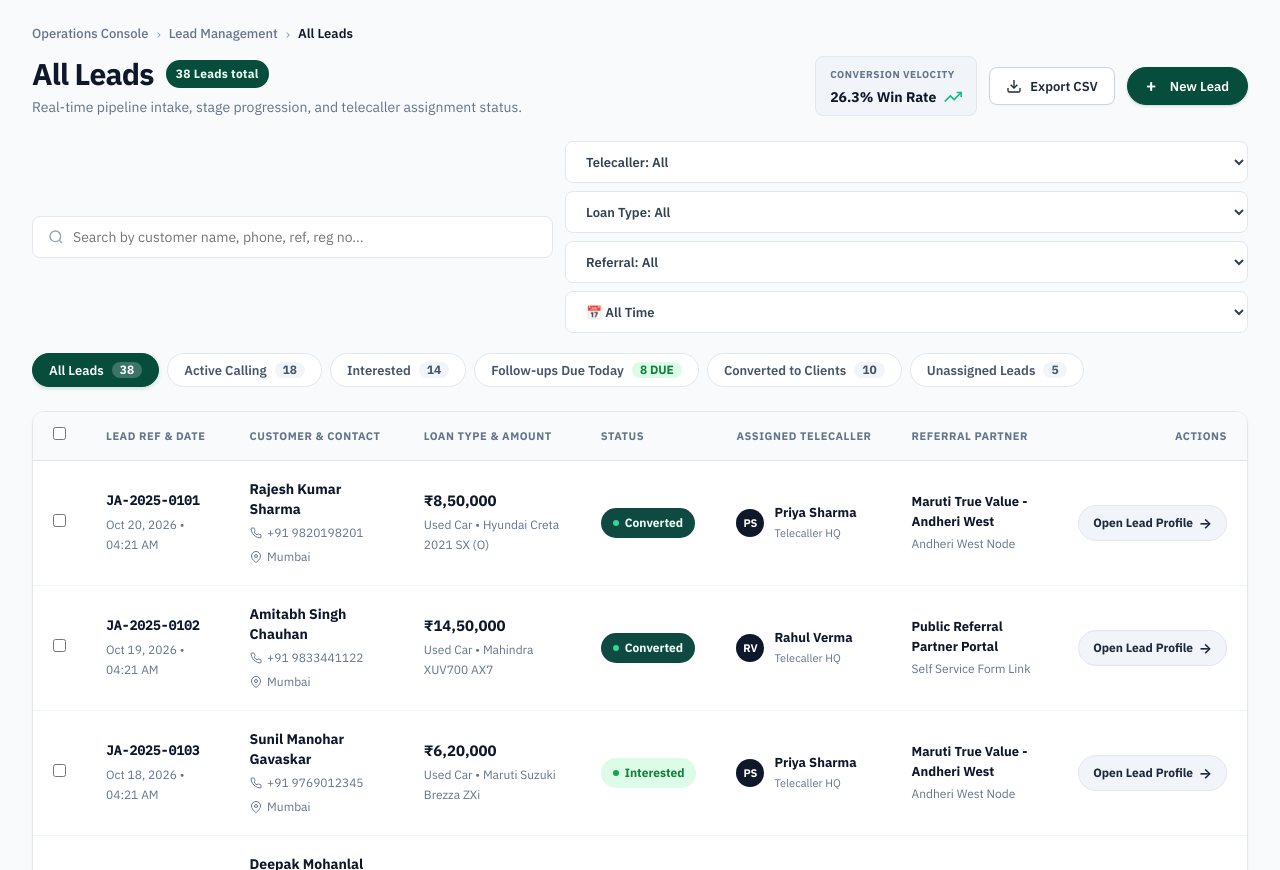
Test: DSA OS — Clickable Dashboard & Lead Management Journey › switching status tabs dynamically filters the table records
Expected: the heading "All Leads" is shown, left=32, top=56, right=154, bottom=92
Note: Click Unassigned Leads tab
Click the tab "Unassigned Leads 5" at (997, 370), box left=910, top=353, right=1084, bottom=387
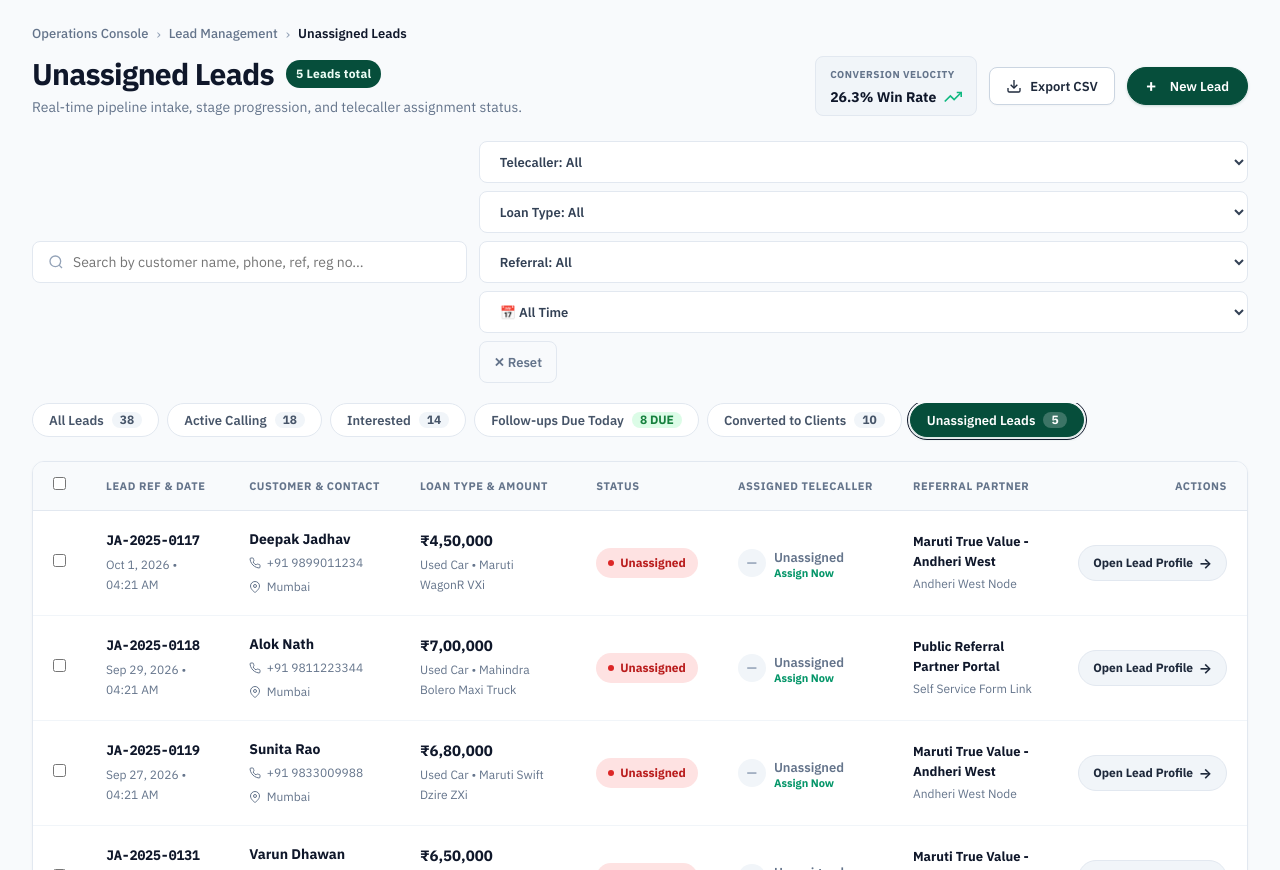
Expected: the text "5 Leads total" is shown, left=286, top=60, right=381, bottom=88
Expected: the heading "Unassigned Leads" is shown, left=32, top=56, right=274, bottom=92
Note: Click Active Calling tab
Click the tab "Active Calling 18" at (245, 420), box left=167, top=403, right=322, bottom=437
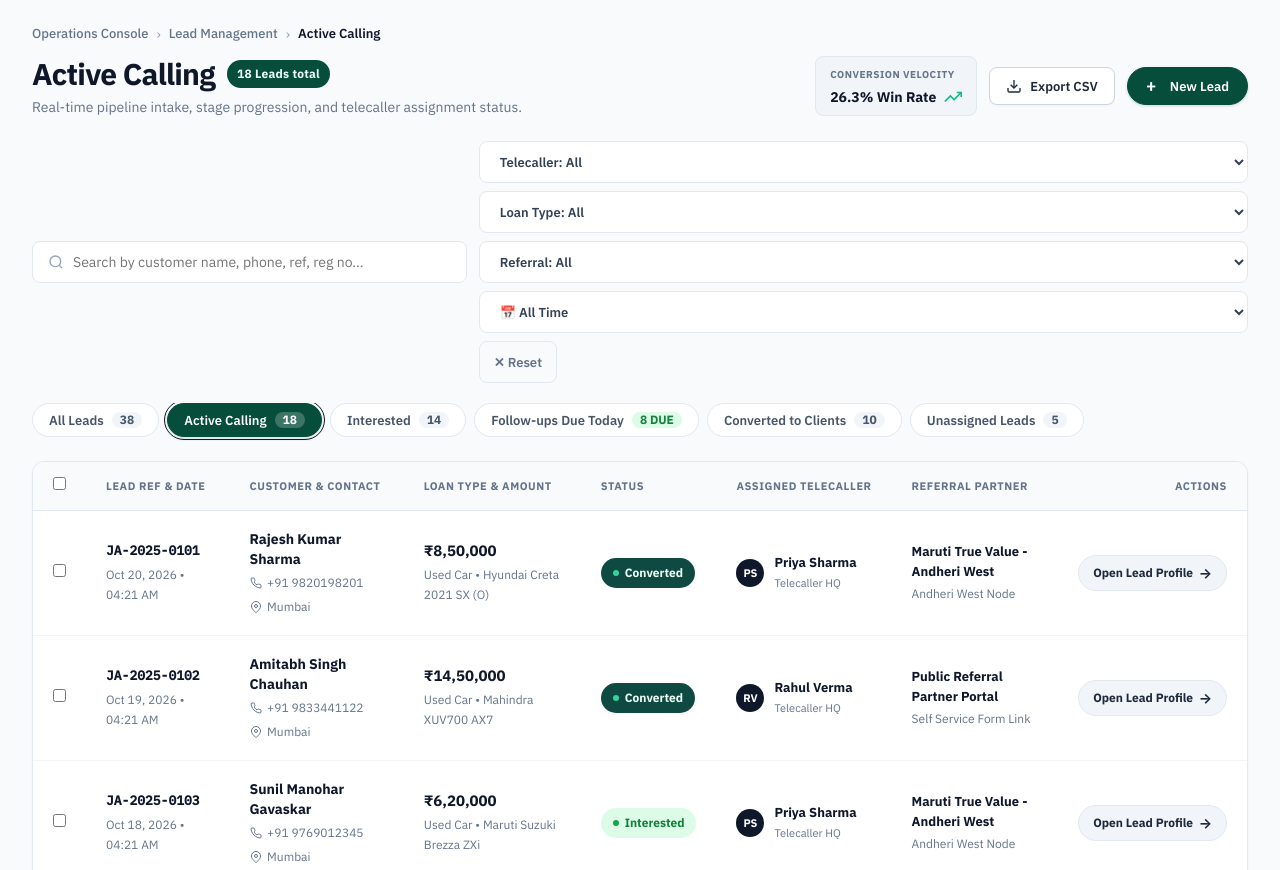
Expected: the text "18 Leads total" is shown, left=227, top=60, right=330, bottom=88
Expected: the heading "Active Calling" is shown, left=32, top=56, right=215, bottom=92
